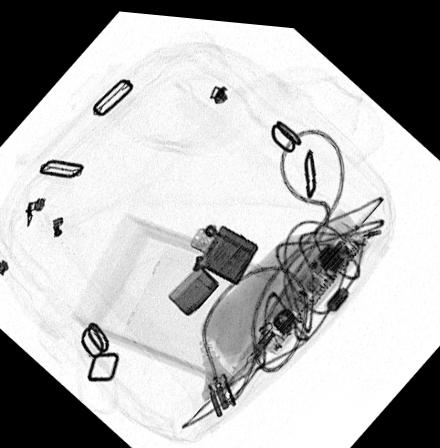Lighter: (164, 217, 257, 313)
